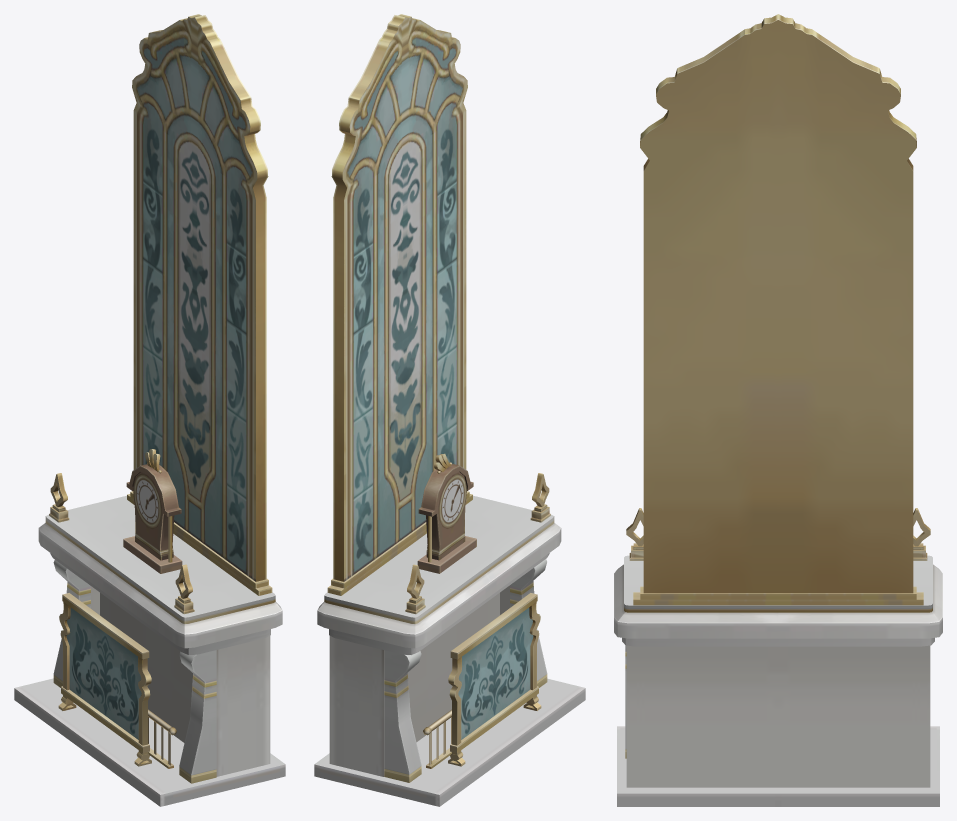
The model's file is my_teaparty_01_fireplace_01.glb.
3 renders of one model, left to right at view 1: azimuth 30°, elevation 25°; view 2: azimuth 150°, elevation 25°; view 3: azimuth 270°, elevation 25°, orthographic. The views are drawn at different scales.
Parts seen in each view (by area): view 1: my_teaparty_01_fireplace_01; view 2: my_teaparty_01_fireplace_01; view 3: my_teaparty_01_fireplace_01.
Boxes of the visible parts, x1=… form: my_teaparty_01_fireplace_01: x1=14, y1=14, x2=285, y2=806; my_teaparty_01_fireplace_01: x1=314, y1=14, x2=585, y2=806; my_teaparty_01_fireplace_01: x1=614, y1=14, x2=942, y2=806.
Size of the model in its own units: 0.00563 by 0.0305 by 0.0116.
Materials: 1 (1 with a texture image).
